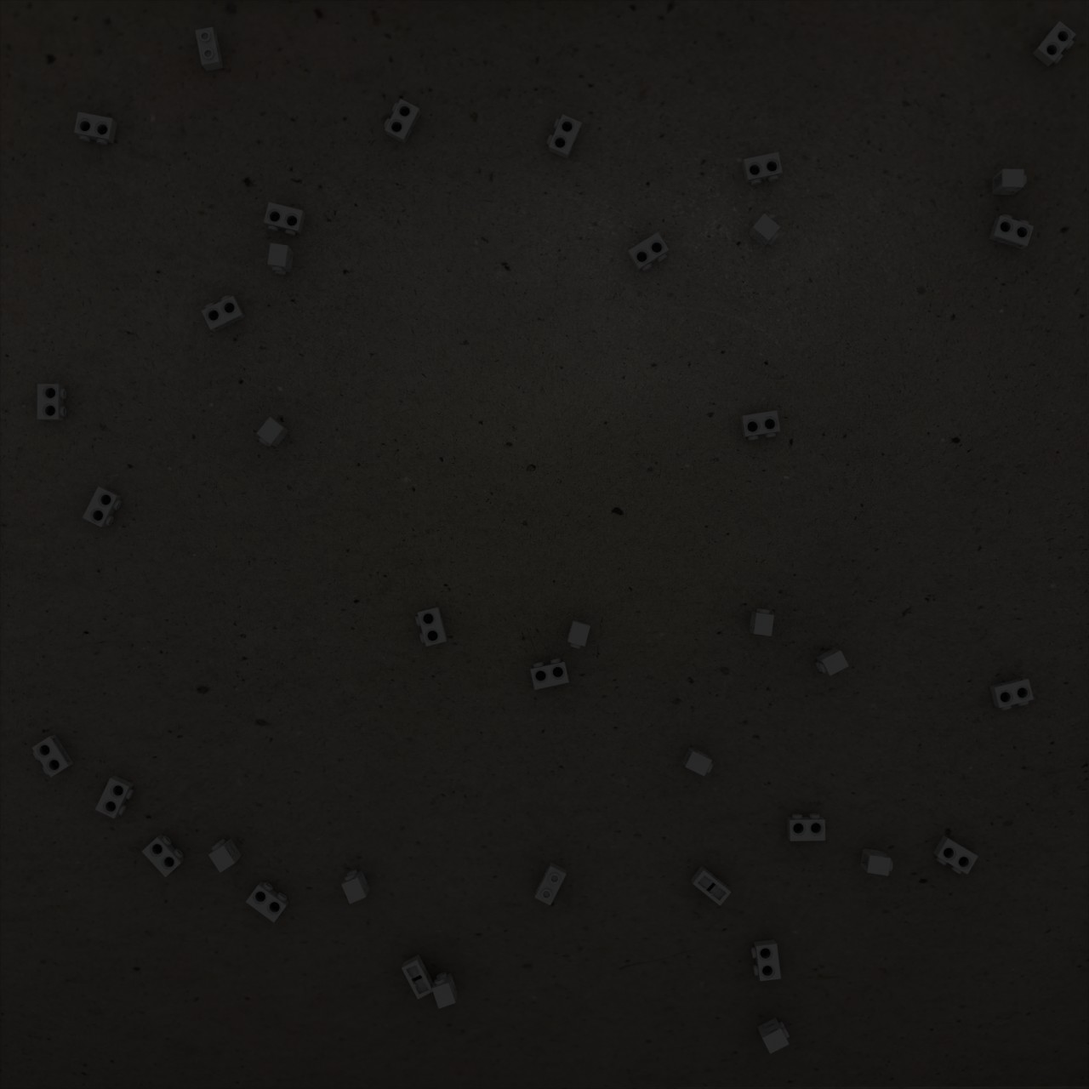lego: (1032, 21, 1076, 67), (142, 834, 185, 877), (246, 881, 289, 923), (32, 734, 74, 777), (933, 835, 978, 875), (95, 775, 134, 819), (82, 486, 122, 528), (627, 232, 669, 272), (384, 99, 421, 144), (201, 295, 246, 332), (546, 114, 582, 159), (989, 214, 1034, 250), (691, 866, 731, 906), (401, 954, 435, 1000), (989, 677, 1034, 710), (264, 202, 306, 236), (74, 112, 117, 145), (535, 862, 566, 906), (742, 152, 783, 185), (415, 607, 448, 647), (195, 27, 224, 71), (751, 939, 781, 981), (530, 658, 569, 690), (757, 1017, 790, 1054), (740, 410, 780, 440), (208, 838, 242, 873), (748, 213, 781, 248), (37, 384, 67, 421), (787, 813, 825, 841), (256, 417, 290, 447), (341, 869, 370, 904), (432, 972, 458, 1009), (815, 648, 849, 676), (682, 746, 713, 776), (860, 848, 893, 876), (992, 169, 1027, 195), (267, 243, 294, 275), (749, 608, 774, 636), (567, 620, 591, 649)
